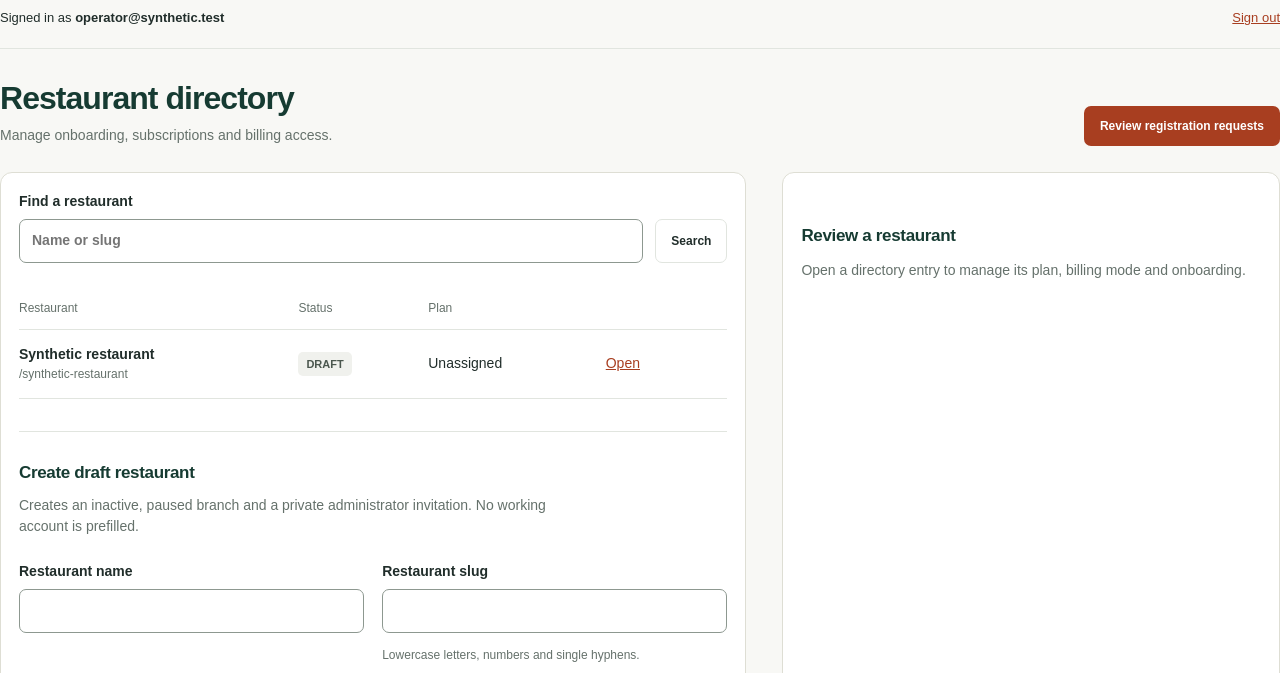
Test: Platform Admin saves billing mode for the selected restaurant and shows the persisted mode
Click the button with aria-label "Open Synthetic restaurant" at (623, 364), box [596,342,650,386]
(page scrolled)
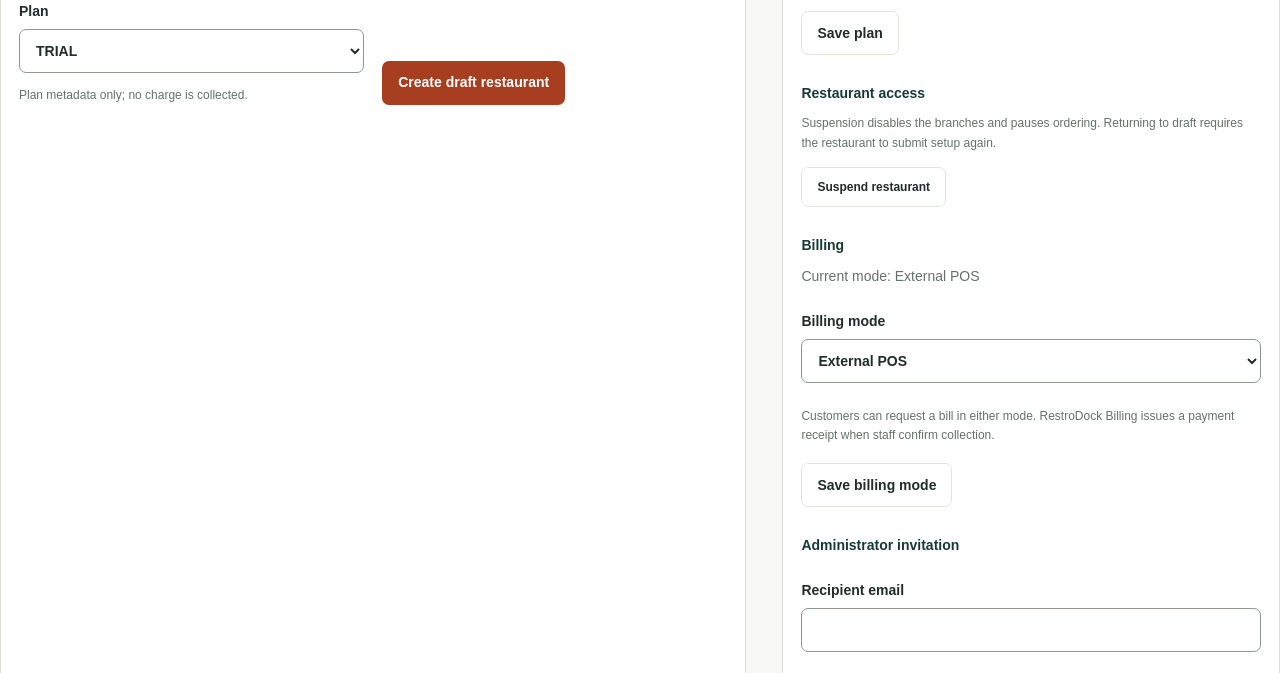
expect the text "Current mode: External POS" is shown: met, box [801,268,980,284]
Select "RestroDock Billing" in the dropdown labelled "Billing mode" at (1031, 361), box [801,339,1261,383]
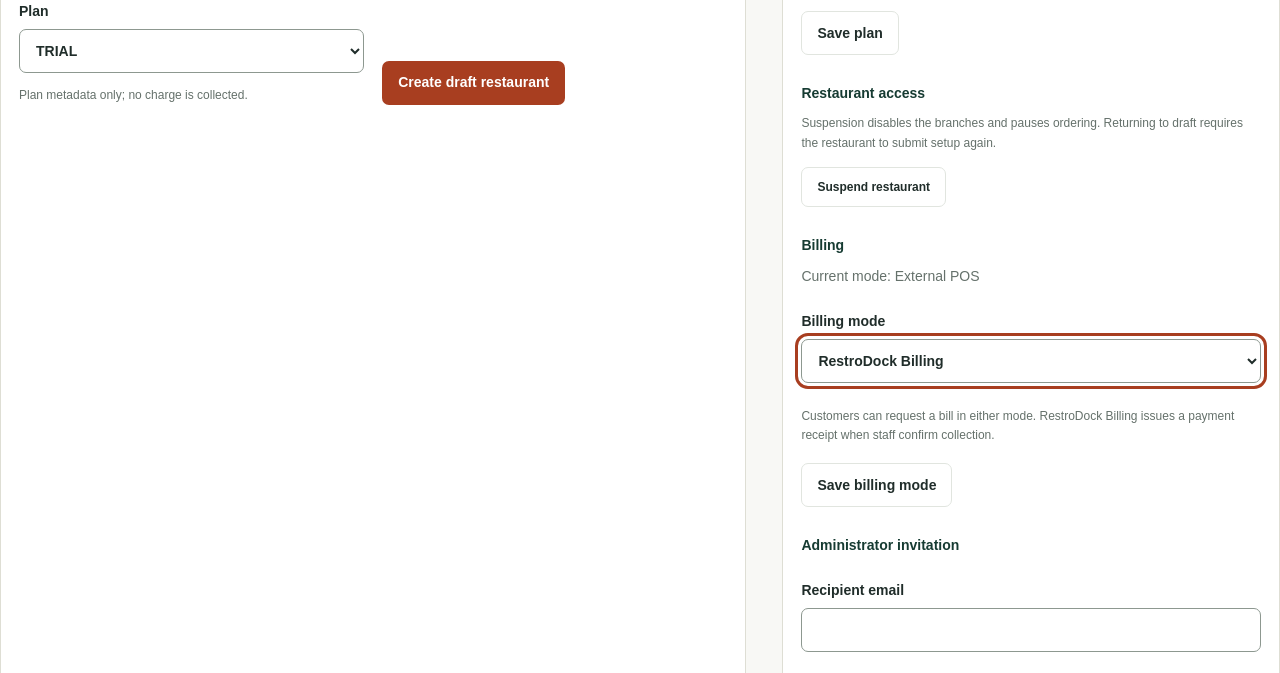
Click the button "Save billing mode" at (877, 485), box [801,463,952,507]
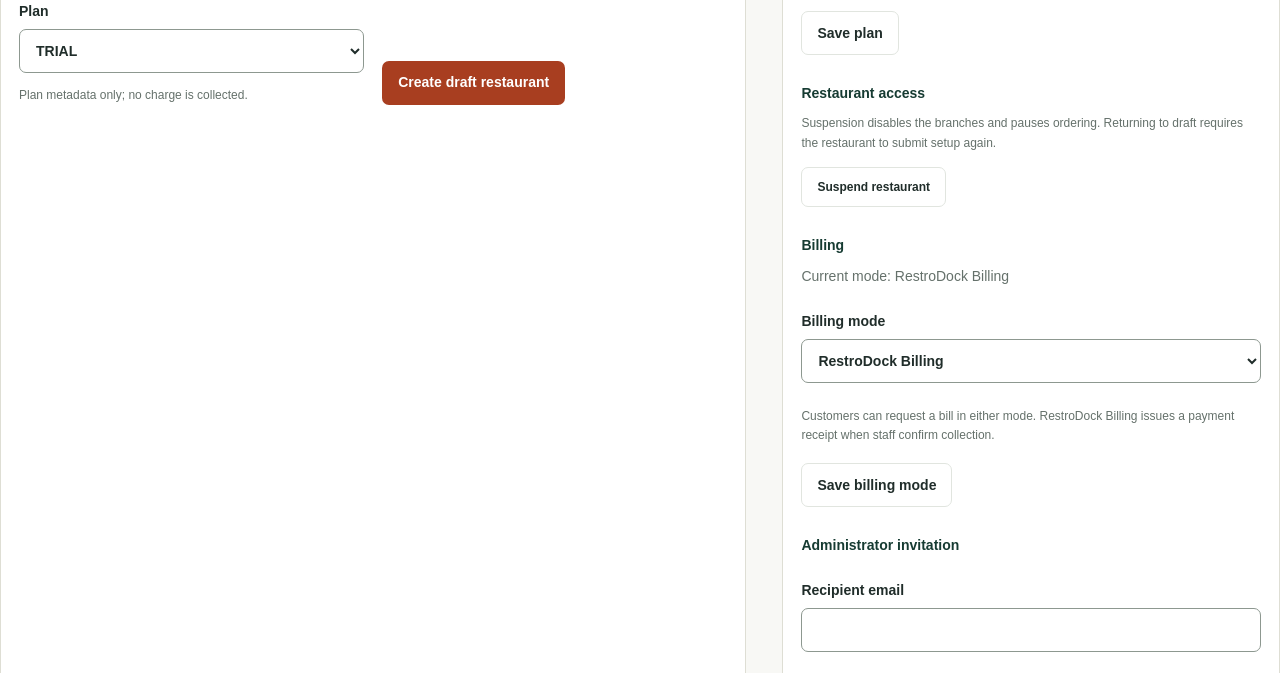
expect the text "Current mode: RestroDock Billing" is shown: met, box [801,268,1009,284]
